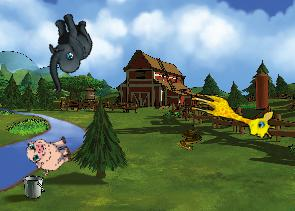elephant: (28, 8, 106, 94)
giraffe: (185, 90, 279, 141)
pig: (23, 128, 75, 178)
